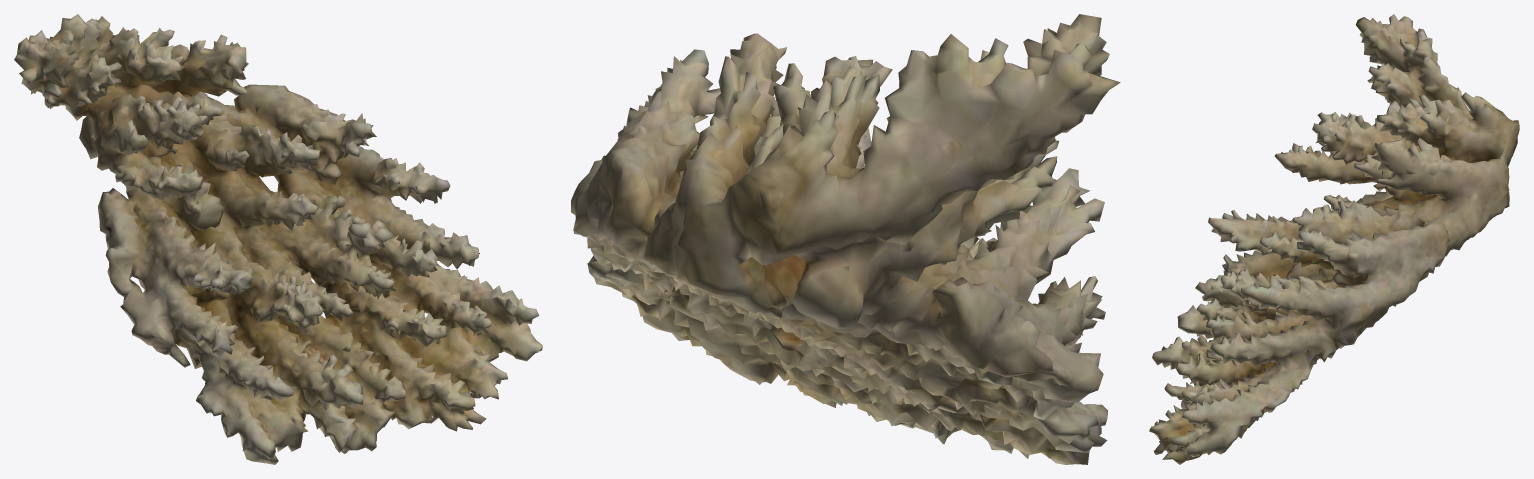
The model's file is acropora.glb.
The picture shows the model from 3 angles, left to right: view 1: azimuth 30°, elevation 25°; view 2: azimuth 150°, elevation 25°; view 3: azimuth 270°, elevation 25°; orthographic projection. The views are drawn at different scales.
Parts seen in each view (by area): view 1: mesh_0; view 2: mesh_0; view 3: mesh_0.
Boxes of the visible parts, x1,y1,x2,y2 form: mesh_0: (14,14,542,464); mesh_0: (571,14,1120,464); mesh_0: (1149,14,1519,464).
Size of the model in its own units: 0.1041 by 0.0919 by 0.0944.
Materials: 1 (1 with a texture image).
